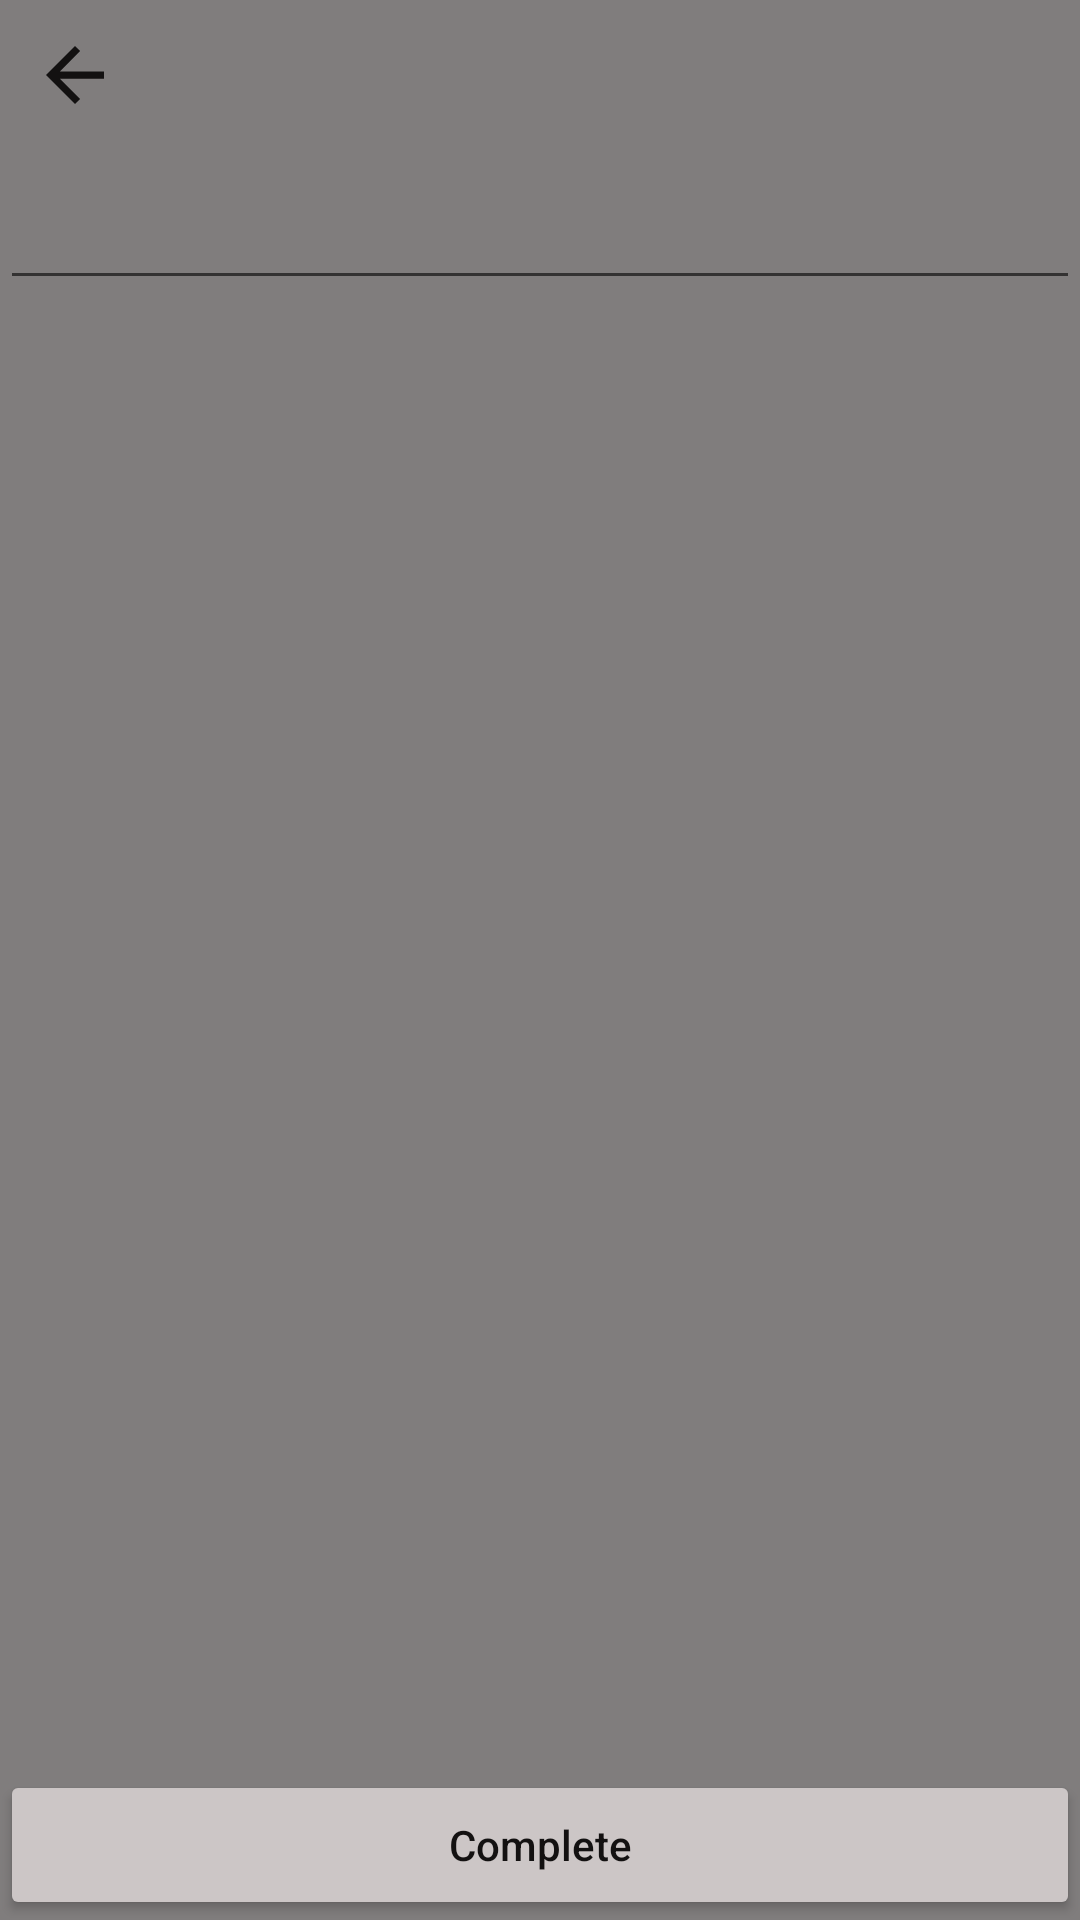

Named icons in this screenshot (1080*1920) and their bounding boxes, (x1, y1, x2, y2):
back to cities: (46, 46, 104, 104)
